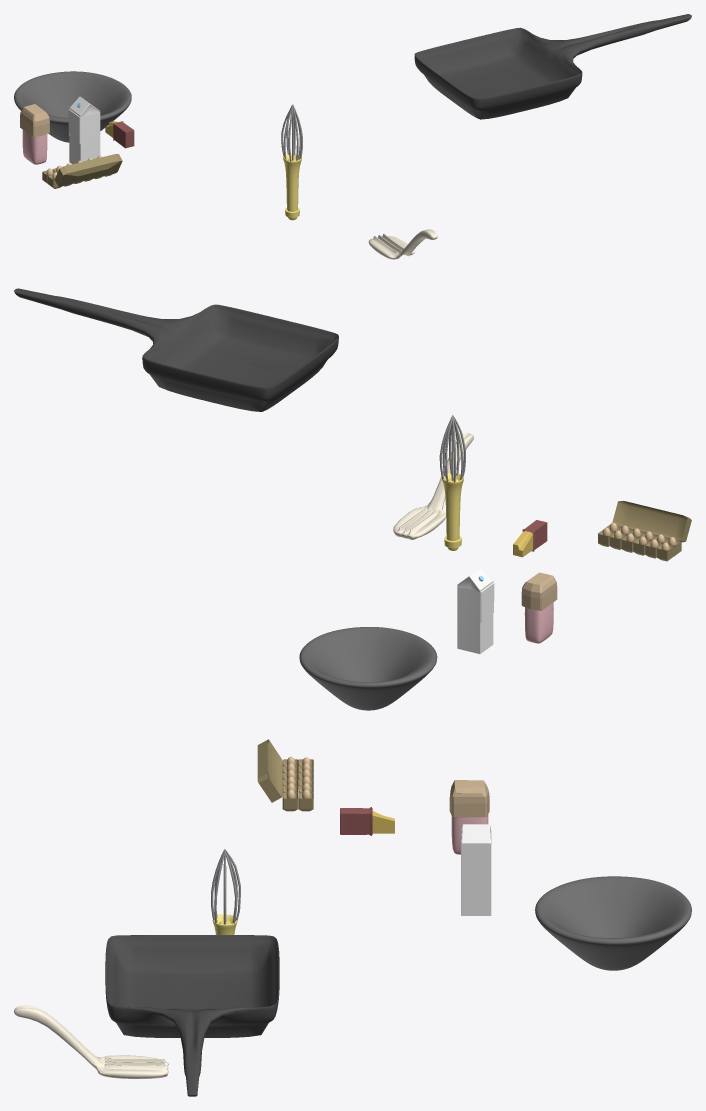
Rendered from main_props.fbx.
3 renders of one model, top to bottom at view 1: azimuth 30°, elevation 25°; view 2: azimuth 150°, elevation 25°; view 3: azimuth 270°, elevation 25°, orthographic. The views are drawn at different scales.
Parts seen in each view (by area): view 1: Pan, pCylinder2, Milk, Whisk1, Carton, Spatula, Flour_Head, Flour_bottom, Butter2; view 2: Pan, pCylinder2, Carton, Milk, Whisk1, Spatula, Flour_Head, Flour_bottom, Butter2; view 3: Pan, pCylinder2, Milk, Spatula, Carton, Whisk1, Flour_Head, Butter2, Flour_bottom.
Boxes of the visible parts, x1,y1,x2,y2 form: Pan: (414,14,691,119); pCylinder2: (14,71,131,142); Milk: (68,96,100,164); Whisk1: (281,104,302,220); Carton: (42,154,122,188); Spatula: (368,229,437,259); Flour_Head: (20,104,49,136); Flour_bottom: (22,130,47,164); Butter2: (105,121,134,148); Pan: (14,288,338,411); pCylinder2: (299,627,437,710); Carton: (598,500,691,561); Milk: (457,567,494,653); Whisk1: (439,415,465,550); Spatula: (393,433,473,539); Flour_Head: (521,572,557,610); Flour_bottom: (524,602,553,643); Butter2: (513,520,547,557); Pan: (105,935,279,1096); pCylinder2: (535,876,691,970); Milk: (461,824,491,915); Spatula: (14,1005,168,1078); Carton: (257,739,313,811); Whisk1: (211,849,240,934); Flour_Head: (449,780,489,817); Butter2: (340,807,394,835); Flour_bottom: (451,814,488,854).
Size of the model in its own units: 11.57 by 2.65 by 8.45.
